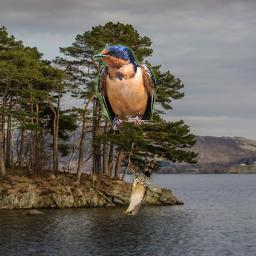Cuckoo: (122, 161, 156, 216)
Swallow: (94, 44, 157, 130)
